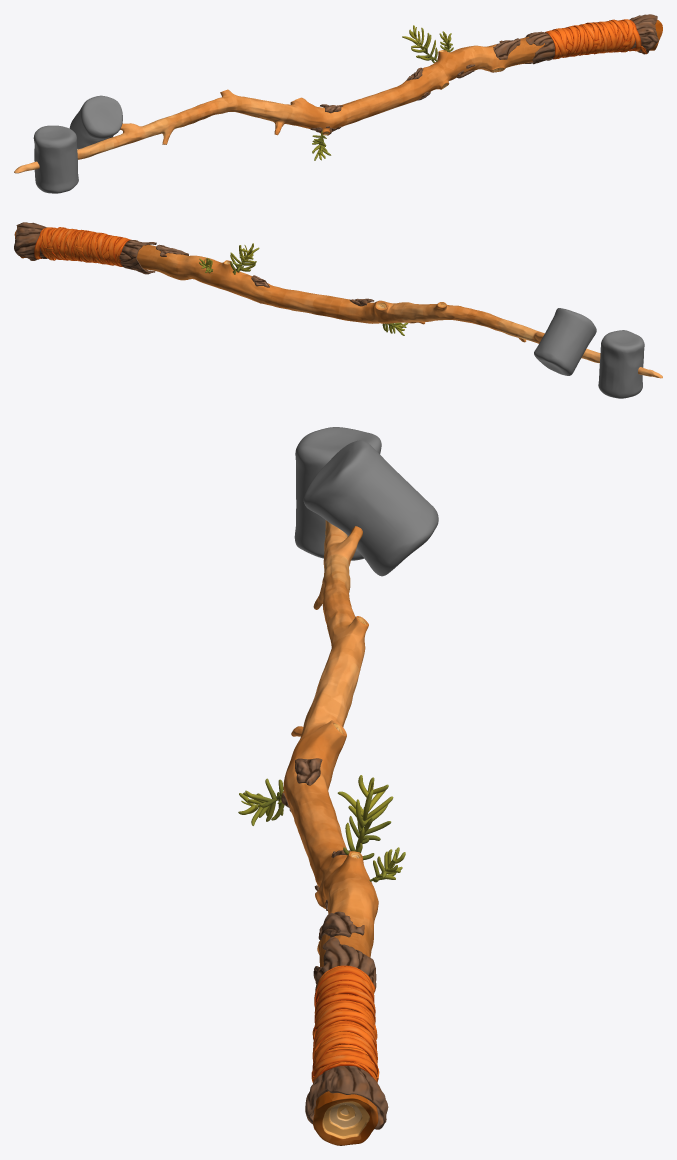
File: MarshmellowStick.fbx
The picture shows the model from 3 angles, top to bottom: view 1: azimuth 30°, elevation 25°; view 2: azimuth 150°, elevation 25°; view 3: azimuth 270°, elevation 25°; orthographic projection. The views are drawn at different scales.
Visible parts, largest first — view 1: Stick, Marshmellow, Straps, Bark, Branches; view 2: Stick, Marshmellow, Straps, Bark, Branches; view 3: Stick, Marshmellow, Straps, Bark, Branches.
Part boxes in pixels (bbox=[...]): Stick: bbox=[14, 19, 662, 173]; Marshmellow: bbox=[33, 95, 122, 193]; Straps: bbox=[545, 19, 647, 59]; Bark: bbox=[310, 14, 658, 135]; Branches: bbox=[312, 25, 453, 160]; Stick: bbox=[14, 230, 662, 378]; Marshmellow: bbox=[534, 308, 644, 398]; Straps: bbox=[34, 227, 131, 266]; Bark: bbox=[14, 222, 374, 306]; Branches: bbox=[199, 243, 408, 335]; Stick: bbox=[282, 520, 378, 1145]; Marshmellow: bbox=[294, 427, 438, 576]; Straps: bbox=[311, 965, 379, 1129]; Bark: bbox=[281, 758, 388, 1145]; Branches: bbox=[238, 775, 405, 882].
Size of the model in its own units: 127 by 17.22 by 17.11.
